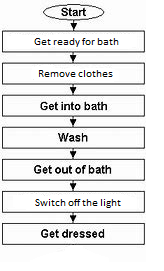arrow: (68, 115, 80, 127), (69, 18, 79, 31), (68, 147, 78, 160), (67, 83, 78, 94), (68, 179, 79, 190), (68, 212, 78, 223), (68, 51, 77, 63)
process: (1, 124, 147, 151), (1, 92, 146, 118), (1, 221, 147, 246), (1, 29, 146, 54), (1, 157, 146, 182), (1, 189, 146, 214), (1, 61, 145, 85)
terminator: (41, 4, 106, 21)
text: (33, 36, 119, 48), (33, 197, 121, 208), (33, 163, 114, 174), (37, 99, 108, 111), (39, 228, 105, 240), (37, 68, 114, 78), (55, 131, 89, 143), (59, 5, 88, 17)
